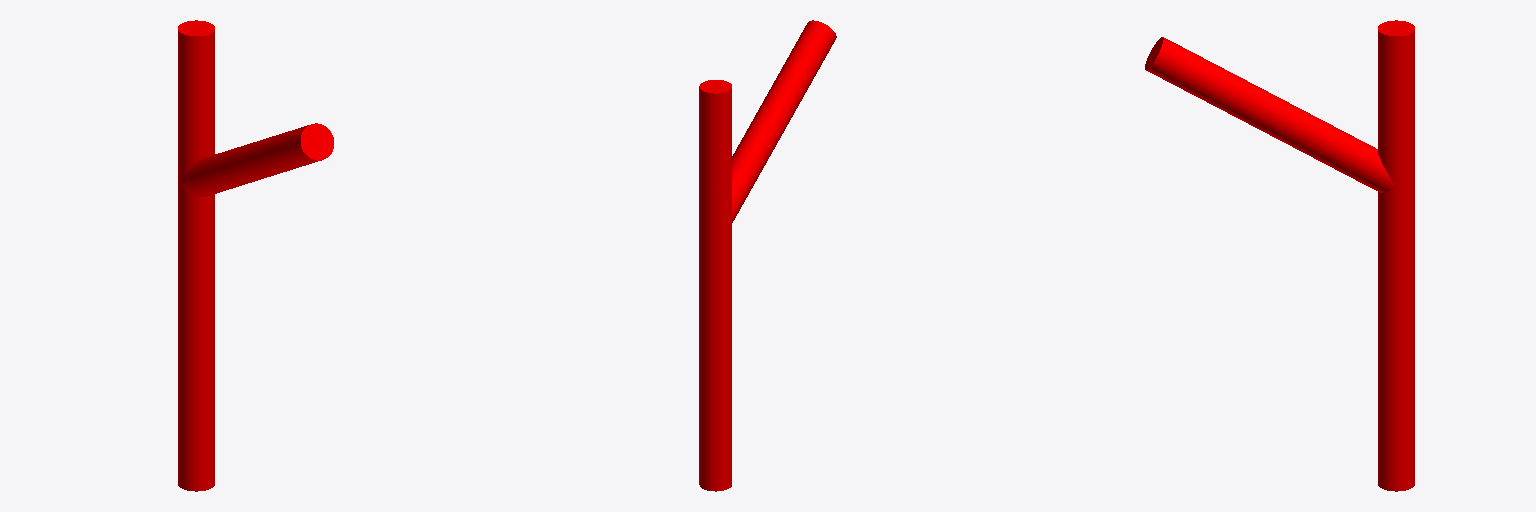
URDF robot description (tree.urdf):
<?xml version="1.0" ?>
<robot name="tree.urdf">
  <link name="baseLink">
    <inertial>
      <origin rpy="0 0 0" xyz="0 0 0"/>
       <mass value=".1"/>
       <inertia ixx="1" ixy="0" ixz="0" iyy="1" iyz="0" izz="1"/>
    </inertial>
    <contact>
      <lateral_friction value="1.0"/>
      <inertia_scaling value="3.0"/>
    </contact>
    <visual>
      <origin rpy="0 0 0" xyz="0 0 0"/>
      <geometry>
        <mesh filename="19.stl" scale="1 1 1" />
      </geometry>
      <material name="red">
        <color rgba="1 0 0 1"/>
      </material>
    </visual>
    <collision>
      <origin rpy="0 0 0" xyz="0 0 0"/>
      <geometry>
        <mesh filename="19_convex.obj" scale="1 1 1" />
      </geometry>
    </collision>
  </link>
</robot>

--- Facts derived from the render (not from the file) ---
The picture shows the robot from 3 angles, left to right: view 1: azimuth 30°, elevation 25°; view 2: azimuth 150°, elevation 25°; view 3: azimuth 270°, elevation 25°; orthographic projection.
Robot: tree.urdf — 1 links, 0 joints (none); root link baseLink; default pose: every joint at zero.
Links seen in each view (by area): view 1: baseLink; view 2: baseLink; view 3: baseLink.
Boxes of the visible links, x1,y1,x2,y2 form: baseLink: [178, 20, 333, 491]; baseLink: [699, 20, 836, 491]; baseLink: [1145, 20, 1414, 491].
Size in the robot's own frame: 0.0187 by 0.1346 by 0.25 metres.
1 mesh visuals loaded from 1 distinct referenced files (1 binary STL).